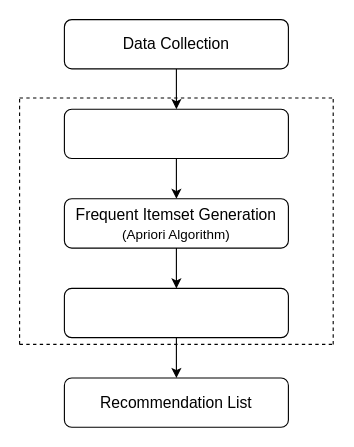
This 354x447 diagram has some shape labels left out. Here are the shapes that lost their labels. From the top down, the centre of each, then its label:
the point at 175,133: Preprocessing Data
the point at 175,312: Rule Generation (Association Rule Mining)
